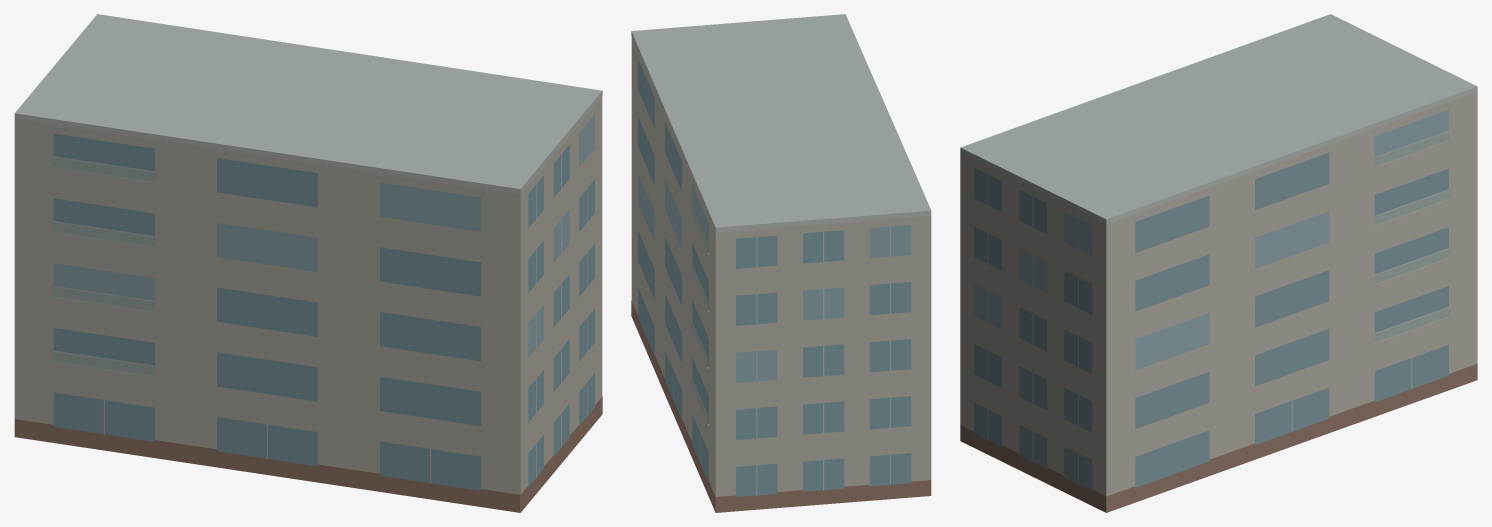
Rendered from survey-upis-32640418.glb.
The picture shows the model from 3 angles, left to right: view 1: azimuth 30°, elevation 25°; view 2: azimuth 150°, elevation 25°; view 3: azimuth 270°, elevation 25°; orthographic projection. The views are drawn at different scales.
Parts seen in each view (by area): view 1: survey-upis-32640418.tmp; view 2: survey-upis-32640418.tmp; view 3: survey-upis-32640418.tmp.
Boxes of the visible parts, <box> form: survey-upis-32640418.tmp: <box>14,14,602,512</box>; survey-upis-32640418.tmp: <box>631,14,931,512</box>; survey-upis-32640418.tmp: <box>960,14,1477,512</box>.
Size of the model in its own units: 21.46 by 14.3 by 22.85.
